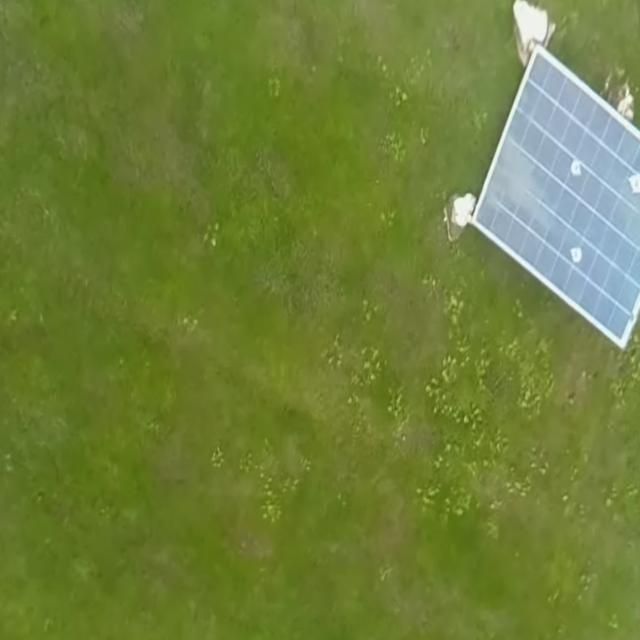Bird-drop: (565, 151, 589, 182), (619, 165, 640, 200), (569, 237, 587, 277)
